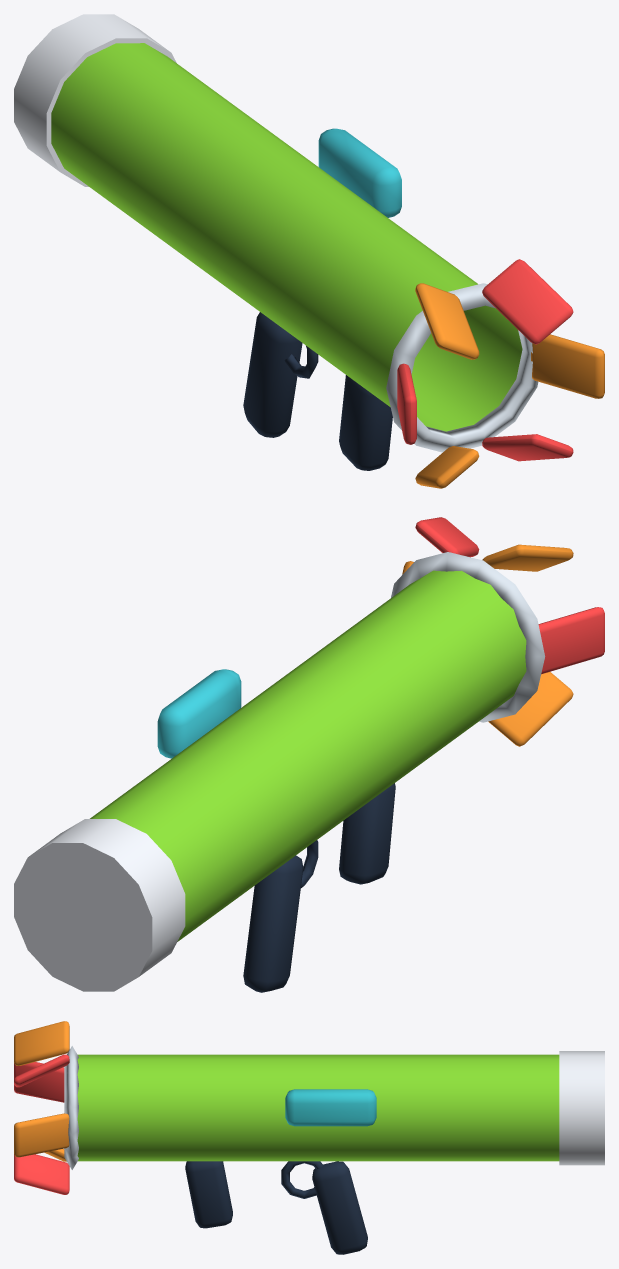
The model's file is BloomMortar.fbx.
The picture shows the model from 3 angles, top to bottom: view 1: azimuth 30°, elevation 25°; view 2: azimuth 150°, elevation 25°; view 3: azimuth 270°, elevation 25°; orthographic projection. The views are drawn at different scales.
Parts seen in each view (by area): view 1: BloomMortar; view 2: BloomMortar; view 3: BloomMortar.
Part boxes in pixels (bbox=[...]): BloomMortar: bbox=[14, 14, 604, 488]; BloomMortar: bbox=[14, 517, 604, 992]; BloomMortar: bbox=[14, 1021, 604, 1254].
Bounding box in the file's own units: 0.2101 × 0.3121 × 0.7765.
